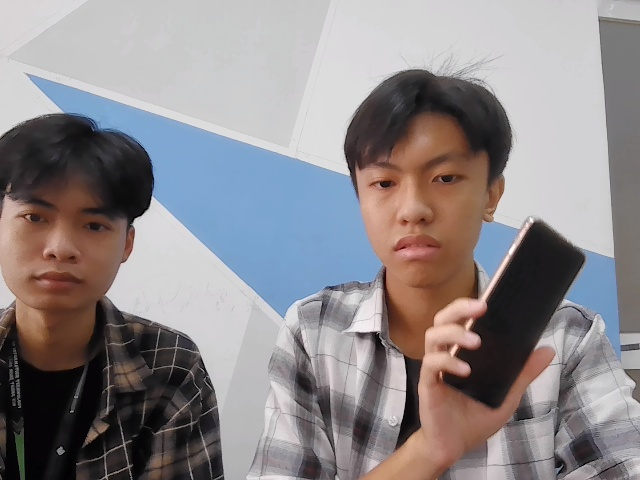human: (1, 109, 154, 319), (353, 80, 503, 289)
phone: (438, 216, 581, 414)
